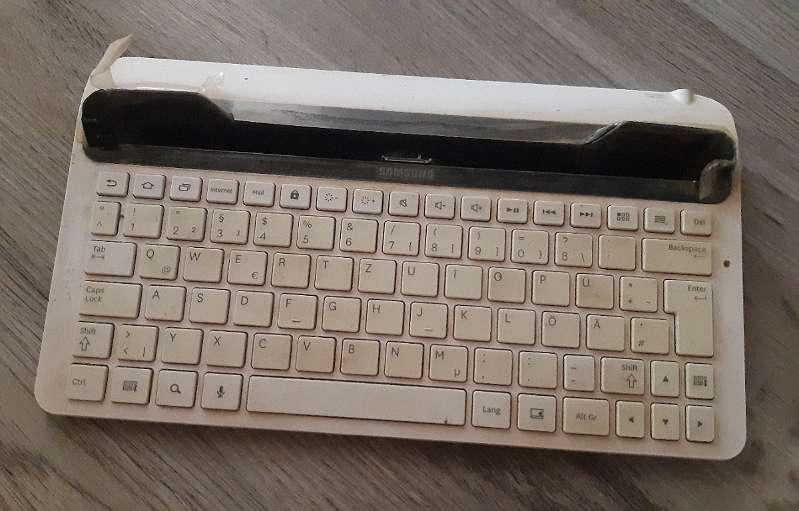0: (508, 226, 547, 262)
1: (119, 200, 161, 236)
2: (163, 203, 205, 239)
3: (207, 206, 248, 242)
4: (251, 209, 291, 244)
5: (294, 212, 334, 248)
6: (337, 215, 377, 250)
7: (380, 218, 418, 254)
8: (422, 221, 461, 256)
9: (465, 223, 505, 259)
a: (142, 282, 183, 319)
accent: (596, 232, 634, 268)
ae: (583, 311, 624, 349)
altgr-right: (558, 396, 611, 436)
b: (337, 335, 378, 373)
c: (248, 329, 291, 368)
caret: (88, 199, 118, 234)
comma: (471, 344, 512, 383)
d: (229, 288, 272, 325)
del: (640, 235, 711, 272)
e: (225, 246, 265, 283)
enter: (661, 276, 713, 355)
f: (275, 290, 316, 329)
g: (319, 293, 359, 330)
h: (362, 296, 403, 333)
hash: (627, 314, 667, 353)
i: (442, 261, 480, 297)
j: (407, 298, 446, 336)
k: (451, 302, 490, 339)
keyboard: (45, 165, 735, 465)
l: (494, 305, 533, 342)
less: (113, 321, 156, 360)
m: (425, 341, 466, 380)
minus: (560, 351, 593, 389)
n: (381, 338, 422, 377)
o: (484, 264, 523, 300)
oe: (538, 308, 578, 346)
p: (529, 267, 569, 303)
plus: (616, 273, 656, 310)
point: (516, 348, 557, 386)
q: (135, 241, 178, 278)
r: (268, 250, 309, 286)
s: (187, 285, 227, 322)
shift-left: (68, 319, 111, 357)
shift-lock: (76, 278, 139, 316)
shift-right: (598, 354, 645, 393)
space: (244, 373, 465, 423)
ss: (551, 229, 591, 265)
strg-left: (60, 361, 106, 400)
t: (312, 252, 351, 289)
tab: (81, 238, 133, 274)
u: (398, 258, 437, 295)
ue: (572, 270, 613, 307)
v: (293, 333, 334, 371)
w: (180, 243, 222, 281)
x: (202, 327, 245, 365)
y: (159, 324, 201, 363)
z: (355, 255, 395, 291)
